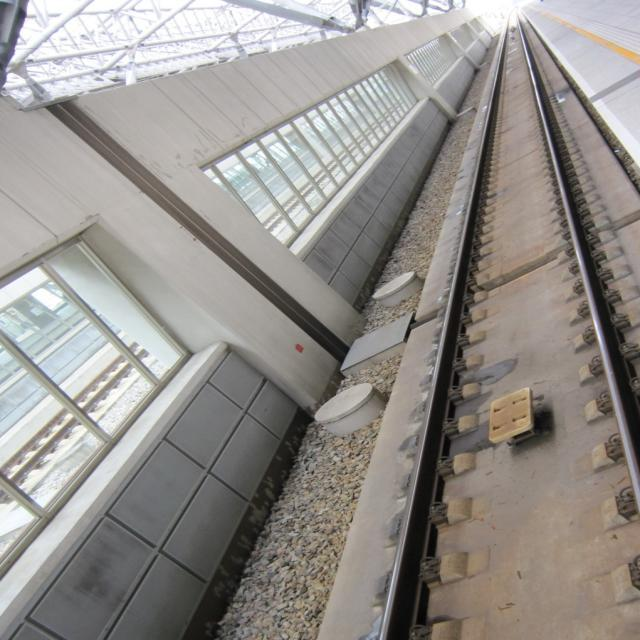rail-track: (318, 21, 640, 640)
